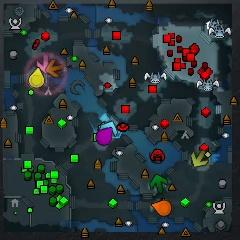p3: (96, 127, 113, 145)
p4: (29, 66, 44, 88)
p5: (152, 200, 171, 216)
x1: (36, 54, 50, 74)
x2: (192, 150, 208, 168)
x3: (100, 121, 117, 136)
x4: (150, 175, 167, 192)
x5: (47, 59, 64, 79)
